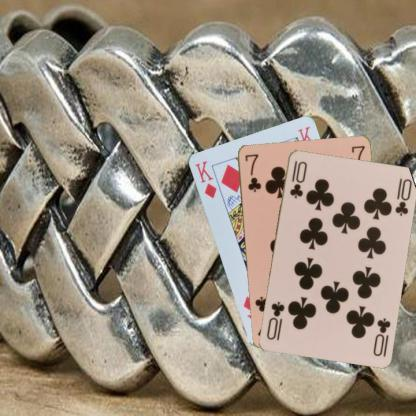10c: (370, 315, 392, 357), (287, 158, 308, 199)
7c: (242, 151, 262, 193)
Kd: (192, 158, 218, 199)
